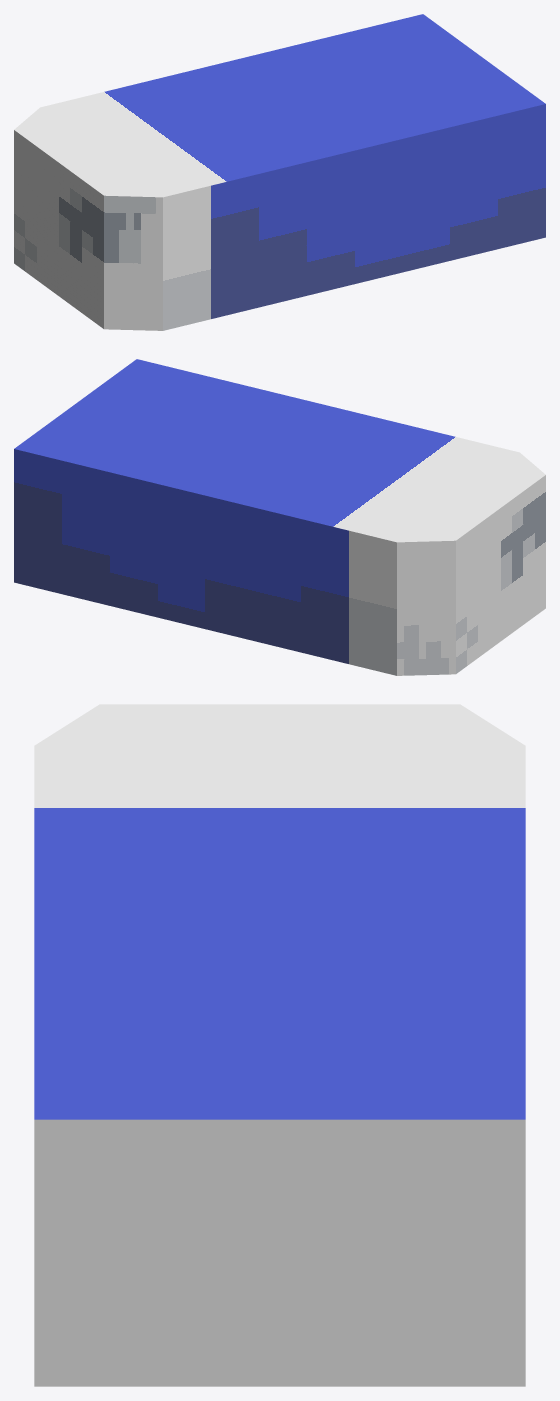
File: eraser.fbx
3 renders of one model, top to bottom at view 1: azimuth 30°, elevation 25°; view 2: azimuth 150°, elevation 25°; view 3: azimuth 270°, elevation 25°, orthographic. The views are drawn at different scales.
Visible parts, largest first — view 1: eraser; view 2: eraser; view 3: eraser.
Part boxes in pixels (x1,y1,x2,y2): eraser: [14, 14, 545, 330]; eraser: [14, 359, 545, 675]; eraser: [34, 704, 525, 1386].
Size of the model in its own units: 3.12 by 0.9375 by 1.56.
Materials: 1 (1 with a texture image).
